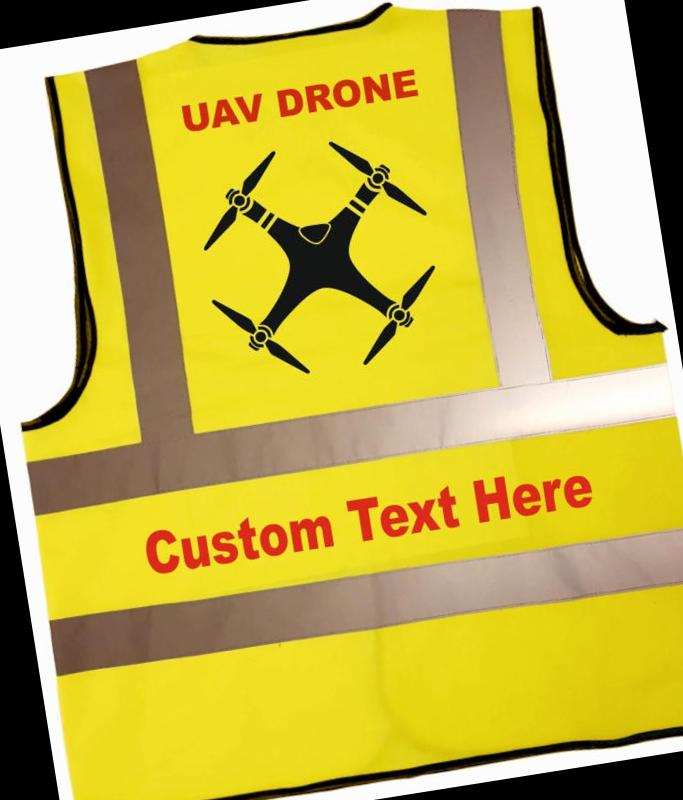drone: (173, 122, 471, 393)
